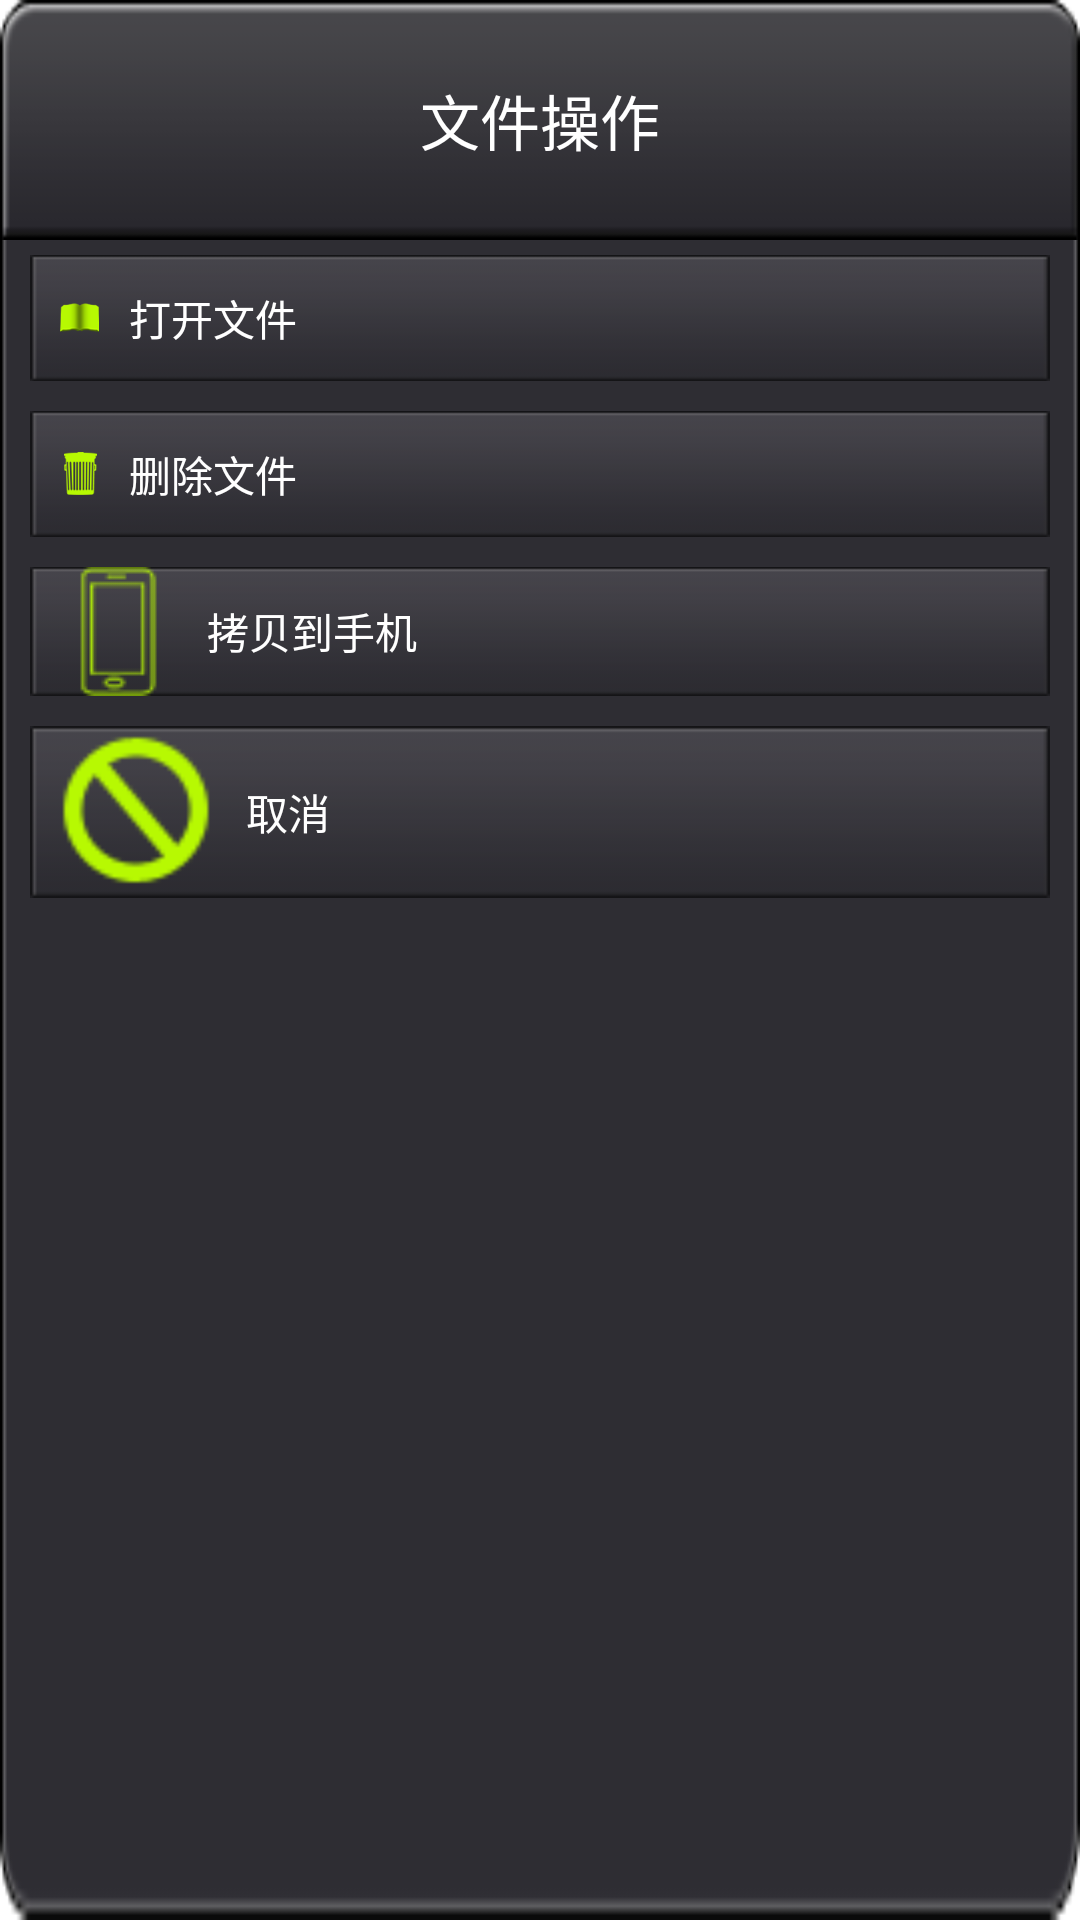

Icons on this 1080*1920 Android screen, each with its box as {"left": x1, "top": y1, "right": x2, "bottom": y2}:
phone: {"left": 60, "top": 567, "right": 177, "bottom": 696}
